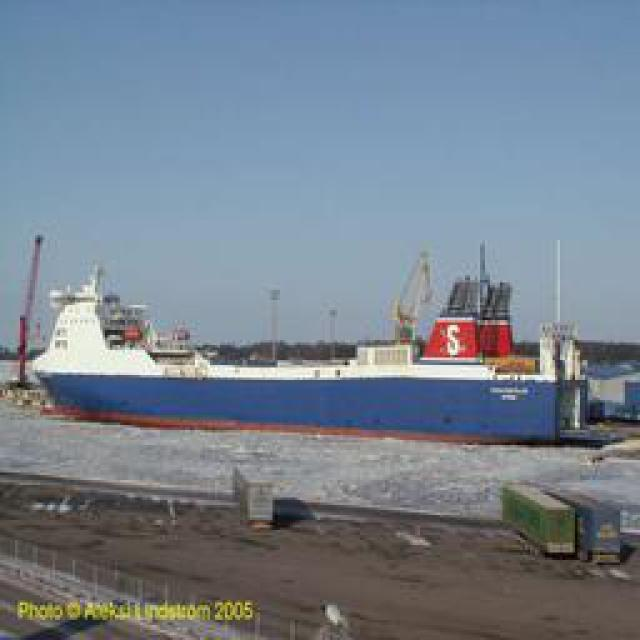Ship: (1, 247, 619, 440)
